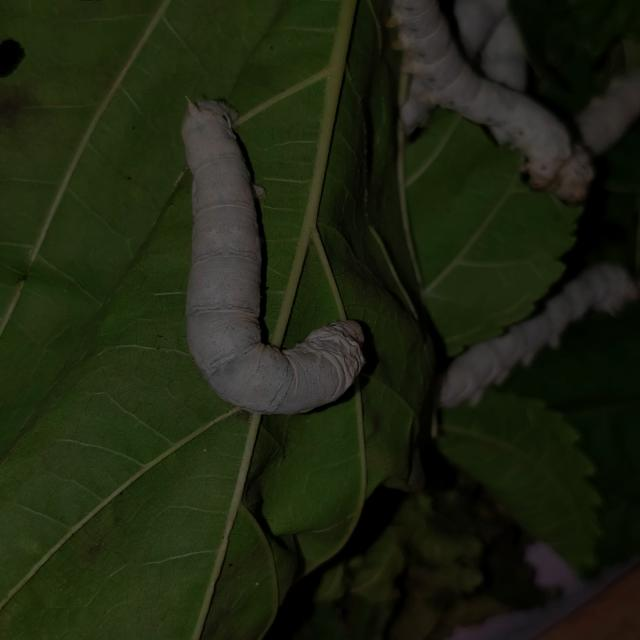Healthy: (166, 82, 376, 424)
